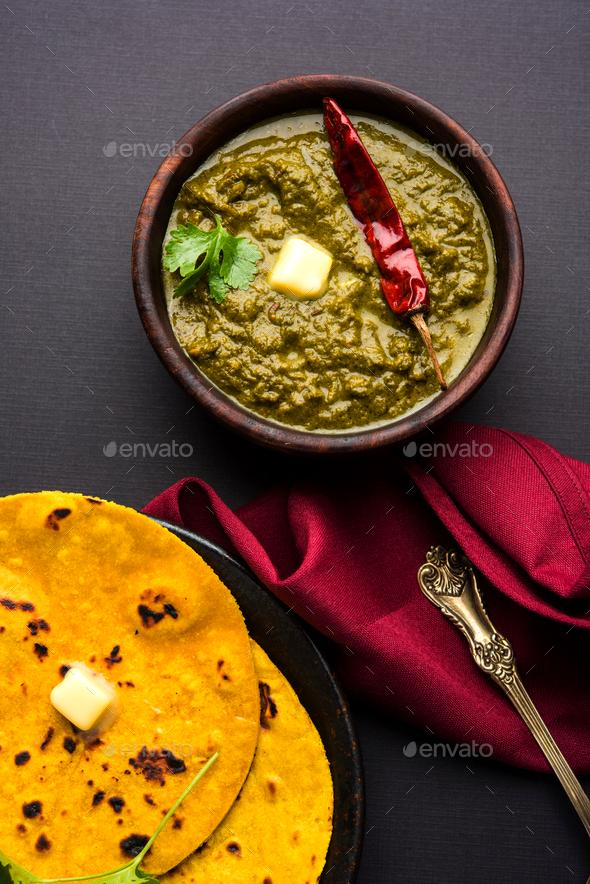saag: (165, 99, 502, 438)
